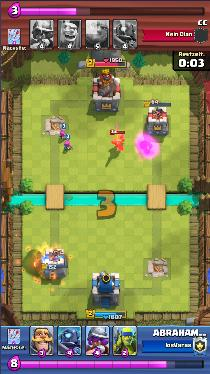ally_archer: (61, 140, 73, 152), (58, 128, 68, 140)
enemy_fireball: (32, 246, 71, 287)
enemy_knight: (109, 130, 126, 150)
